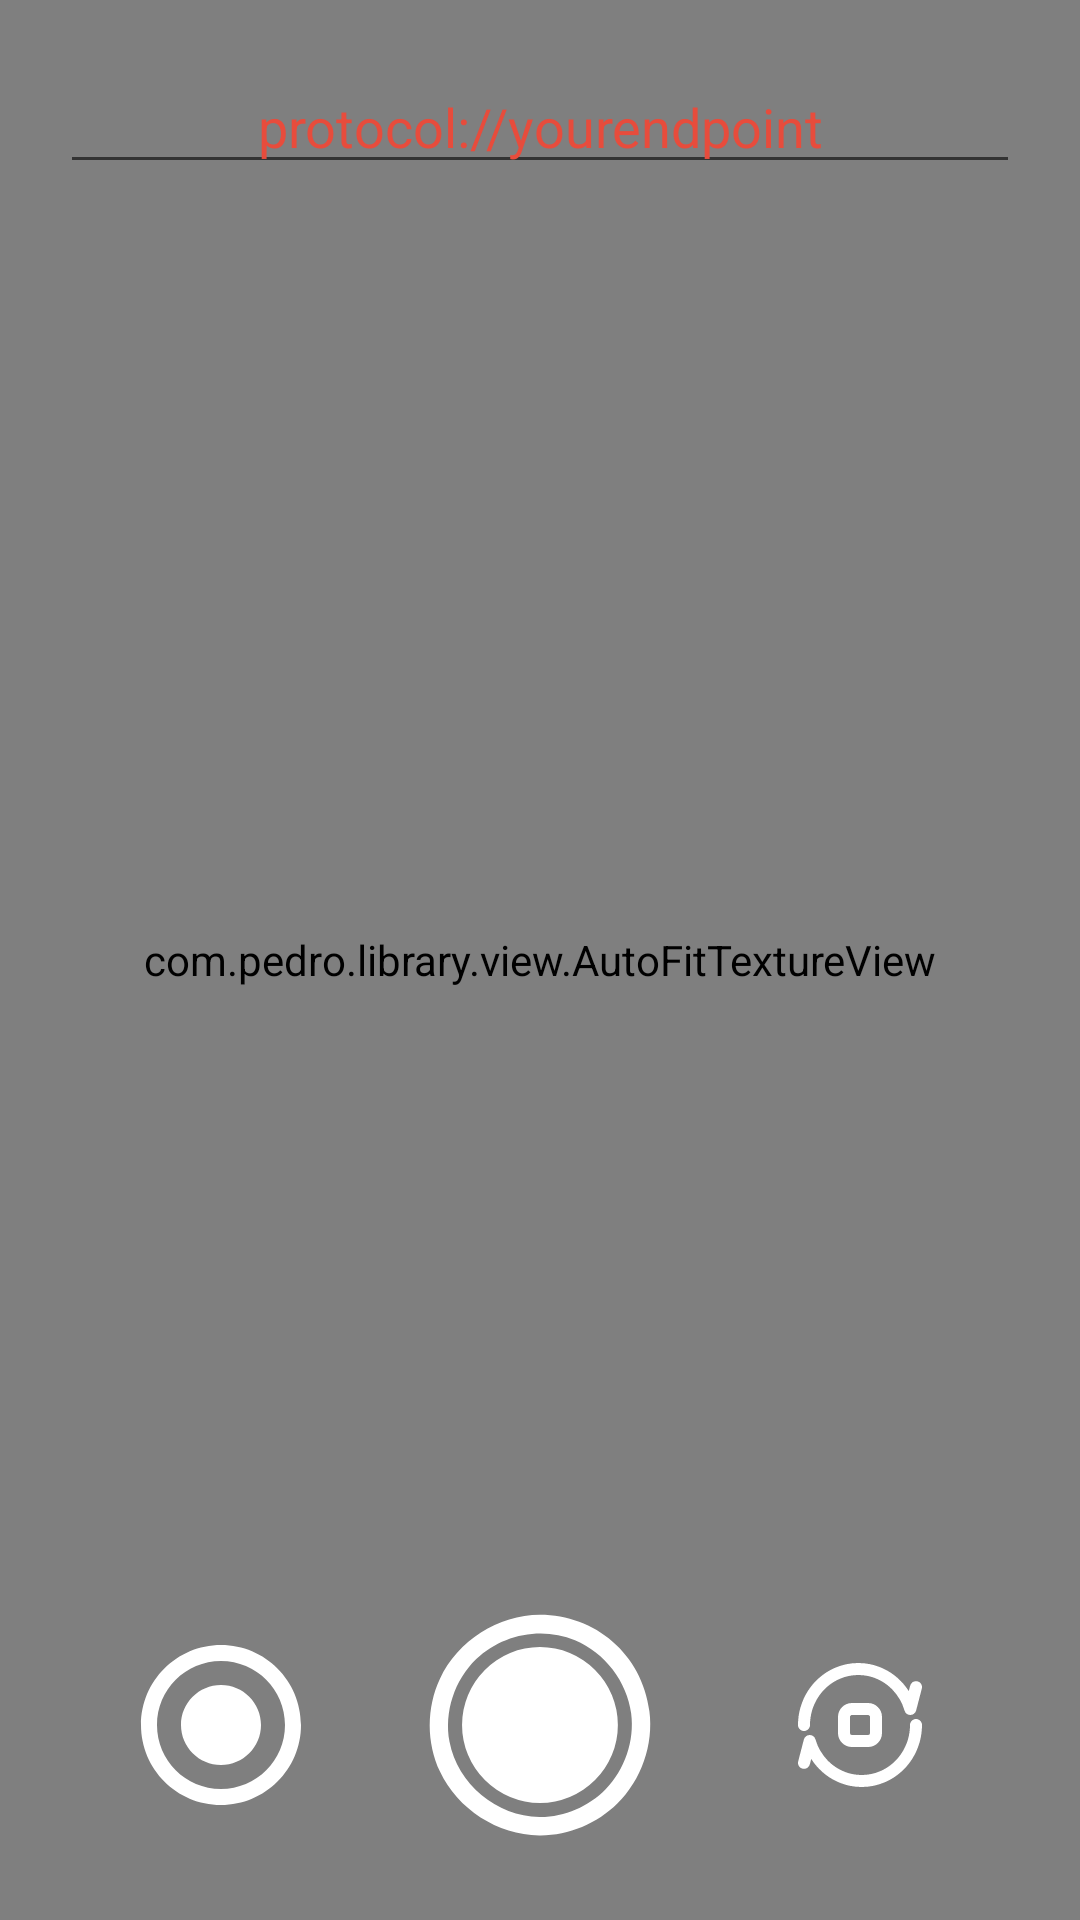

Locate icon controls on the screen. Image size 1080x1920, boxes as (x1, y1, x2, y2).
record: (141, 1645, 301, 1805)
switch: (798, 1663, 922, 1787)
